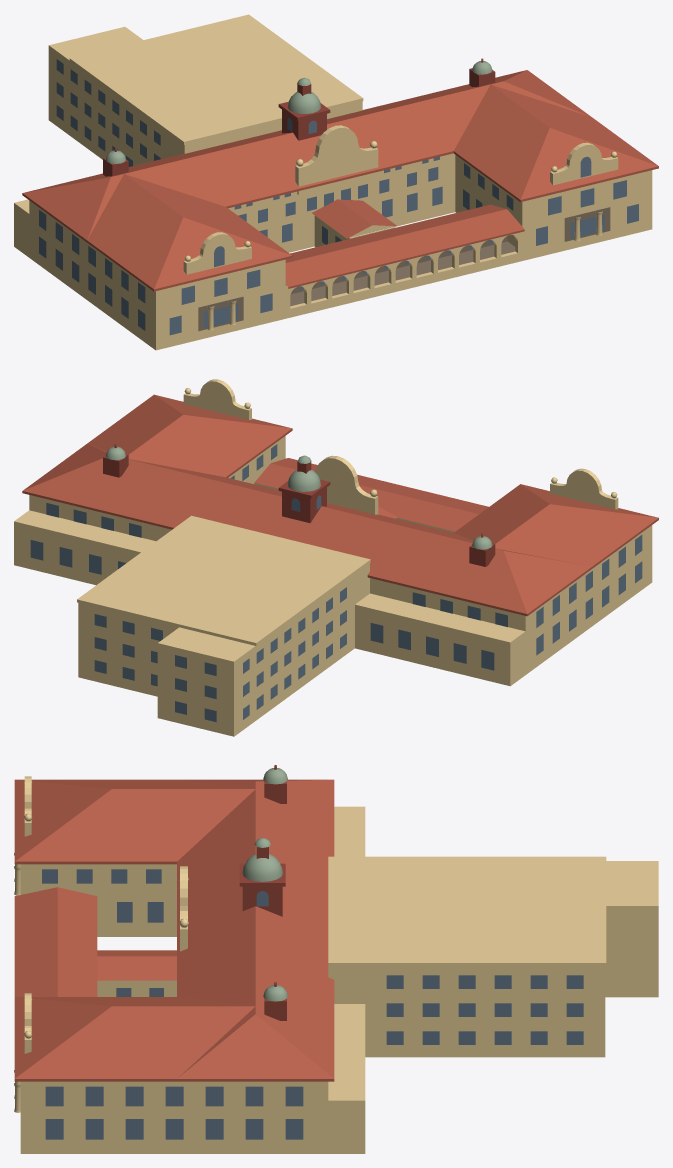
Rendered from dal-livestock-exchange.glb.
The picture shows the model from 3 angles, top to bottom: view 1: azimuth 30°, elevation 25°; view 2: azimuth 150°, elevation 25°; view 3: azimuth 270°, elevation 25°; orthographic projection. The views are drawn at different scales.
Parts seen in each view (by area): view 1: Livestock Exchange Building; view 2: Livestock Exchange Building; view 3: Livestock Exchange Building.
Part boxes in pixels (x1,y1,x2,y2): Livestock Exchange Building: [14, 14, 658, 350]; Livestock Exchange Building: [14, 379, 658, 736]; Livestock Exchange Building: [14, 765, 658, 1153].
Size of the model in its own units: 71.1 by 18.65 by 64.78.
